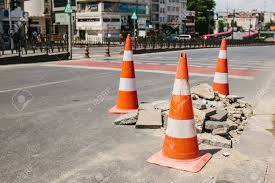obstacle: (157, 53, 208, 170), (112, 32, 141, 121), (209, 36, 232, 105)
